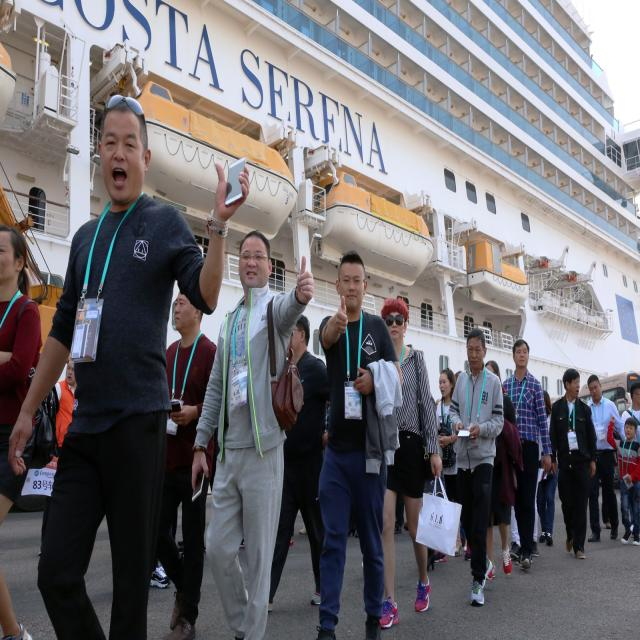body: (6, 92, 251, 639), (188, 226, 316, 640), (309, 250, 405, 640), (154, 287, 220, 639), (378, 296, 444, 632), (266, 312, 329, 614), (0, 221, 45, 640), (447, 326, 504, 610), (502, 338, 554, 570), (549, 368, 597, 560), (431, 366, 474, 564), (586, 374, 636, 541), (485, 361, 518, 580), (132, 511, 197, 598), (606, 413, 640, 547), (536, 388, 560, 548), (54, 356, 77, 458), (426, 524, 474, 572), (282, 514, 318, 548), (532, 468, 546, 555), (621, 381, 640, 444), (506, 497, 522, 559), (392, 497, 412, 536), (319, 392, 333, 445), (234, 530, 251, 560), (454, 365, 466, 392), (347, 516, 360, 540), (430, 395, 441, 415)
